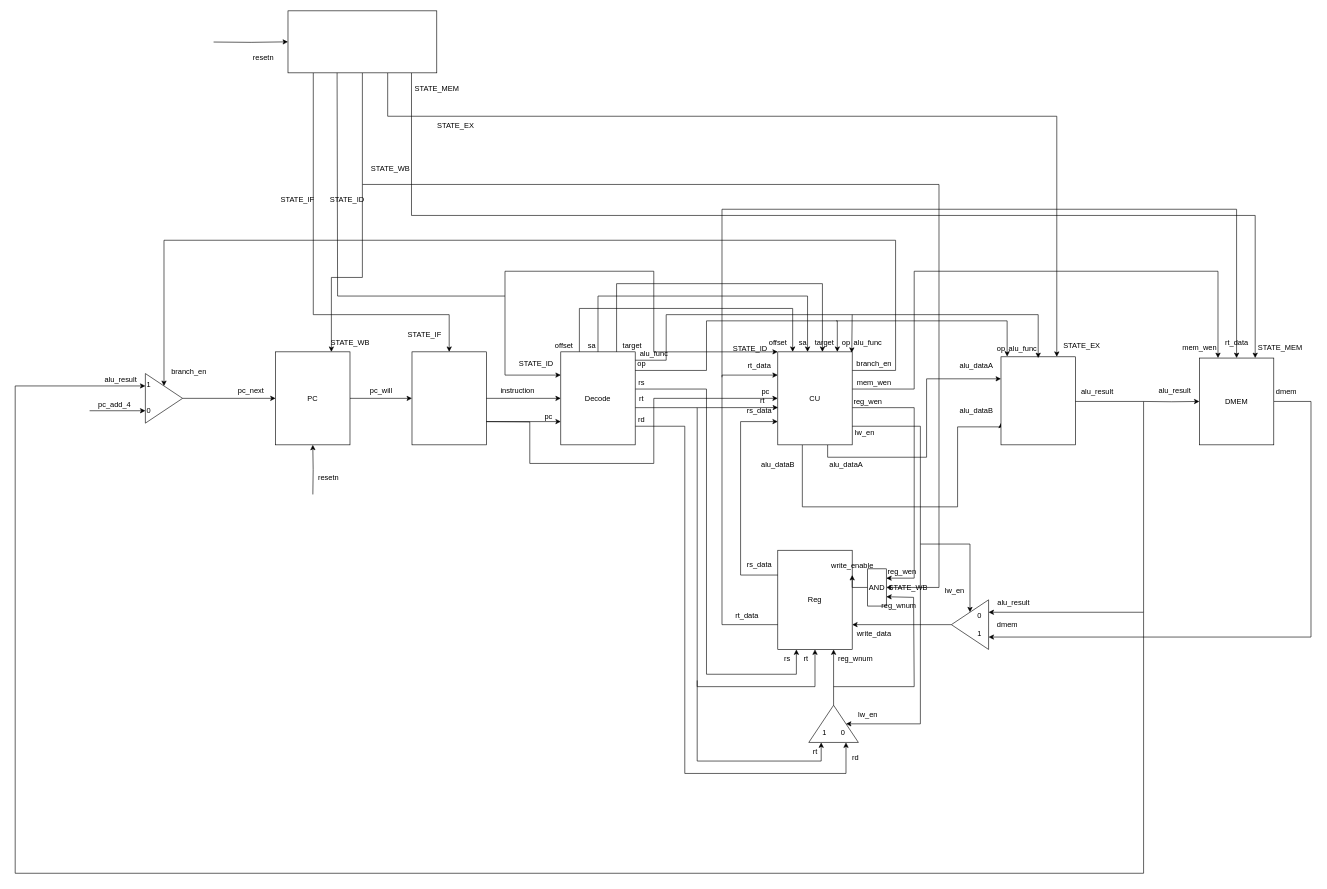
Some shapes in this 1327 by 889 pixel diagram are drawn without their labels. The shapes that lost their labels are listed below. From the top down, each one's centre as x and y in pixels, then its label:
At [362,41]: "state_control".
At [448,398]: "IMEM".
At [1037,400]: "ALU".
